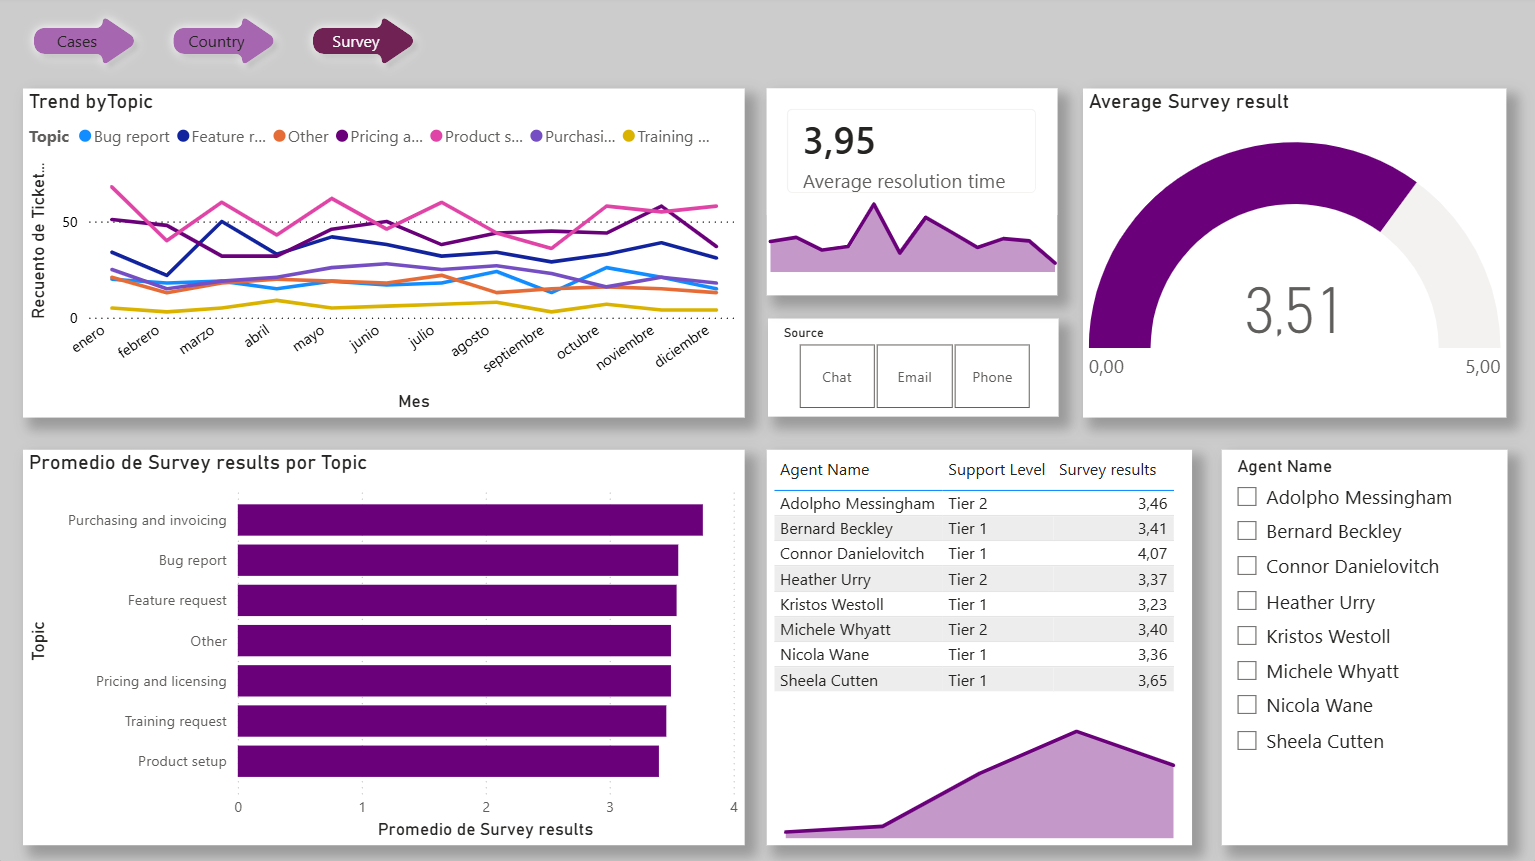

What the dashboard file says about the page in this screenshot:
{"tool":"powerbi","page":{"name":"Survey","canvas":[1280,720],"ordinal":2},"visuals":[{"type":"pageNavigator","box":[21.1,7,338.1,60.8],"z":0},{"type":"lineChart","title":"Trend byTopic ","fields":{"Category":["Tabla1.Created time.Variación.Jerarquía de fechas.Mes"],"Series":["Tabla1.Topic"],"Y":["CountNonNull(Tabla1.Ticket ID)"]},"box":[20.9,76.7,600,273.3],"z":1000},{"type":"clusteredBarChart","fields":{"Y":["Avg(Tabla1.Survey results)"],"Category":["Tabla1.Topic"]},"box":[20.9,376.7,600,329.1],"z":2000},{"type":"slicer","fields":{"Values":["Tabla1.Agent Name"]},"box":[1017.4,376.7,237.2,329.1],"z":3000},{"type":"slicer","fields":{"Values":["Tabla1.Source"]},"box":[640.7,268.6,241.9,81.4],"z":4000},{"type":"tableEx","fields":{"Values":["Tabla1.Agent Name","Tabla1.Support Level","Avg(Tabla1.Survey results)"]},"box":[639.5,376.7,353.5,329.1],"z":5000},{"type":"shape","box":[639.5,76.7,241.9,172.1],"z":5500},{"type":"cardVisual","fields":{"Data":["Avg(Tabla1.Tiempo de resolucion)"]},"box":[639.5,76.7,241.9,104.7],"z":6000},{"type":"gauge","fields":{"Y":["Avg(Tabla1.Survey results)"]},"box":[902.3,76.7,352.3,273.3],"z":7000},{"type":"areaChart","fields":{"Y":["Tabla1.Average Resolution time"],"Category":["Tabla1.Close time.Variación.Jerarquía de fechas.Mes"]},"box":[629.1,129.1,264,105.8],"z":8000},{"type":"areaChart","fields":{"Y":["CountNonNull(Tabla1.Agent Name)"],"Category":["Tabla1.Survey results"]},"box":[640.7,590.7,352.3,115.1],"z":8500}]}

Visuals, with their boxes in screenshot pixels (x1, y1, x2, y2), scaled from the page's 1280x720 canvas onto the 1535x861 screenshot:
pageNavigator: (x1=25, y1=8, x2=431, y2=81)
"Trend byTopic " lineChart: (x1=25, y1=92, x2=745, y2=419)
clusteredBarChart - Avg(Tabla1.Survey results) x Tabla1.Topic: (x1=25, y1=450, x2=745, y2=844)
slicer - Tabla1.Agent Name: (x1=1220, y1=450, x2=1505, y2=844)
slicer - Tabla1.Source: (x1=768, y1=321, x2=1058, y2=419)
tableEx - Tabla1.Agent Name x Tabla1.Support Level: (x1=767, y1=450, x2=1191, y2=844)
shape: (x1=767, y1=92, x2=1057, y2=298)
cardVisual - Avg(Tabla1.Tiempo de resolucion): (x1=767, y1=92, x2=1057, y2=217)
gauge - Avg(Tabla1.Survey results): (x1=1082, y1=92, x2=1505, y2=419)
areaChart - Tabla1.Average Resolution time x Tabla1.Close time.Variación.Jerarquía de fechas.Mes: (x1=754, y1=154, x2=1071, y2=281)
areaChart - CountNonNull(Tabla1.Agent Name) x Tabla1.Survey results: (x1=768, y1=706, x2=1191, y2=844)
